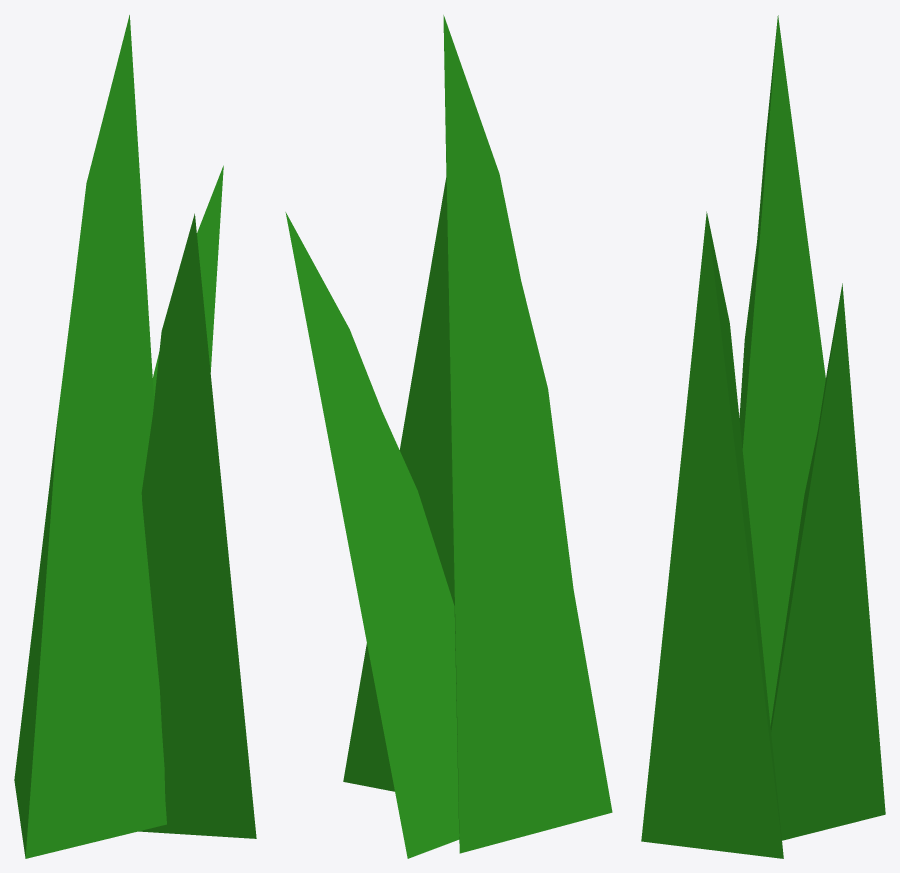
File: Grass.fbx
3 views of the same model, side by side, from view 1: azimuth 30°, elevation 25°; view 2: azimuth 150°, elevation 25°; view 3: azimuth 270°, elevation 25° (orthographic).
Parts seen in each view (by area): view 1: Cone; view 2: Cone; view 3: Cone.
Part boxes in pixels (x1,y1,x2,y2): Cone: [14, 15, 256, 858]; Cone: [285, 15, 612, 858]; Cone: [641, 15, 885, 858].
Size of the model in its own units: 136 by 398 by 108.
